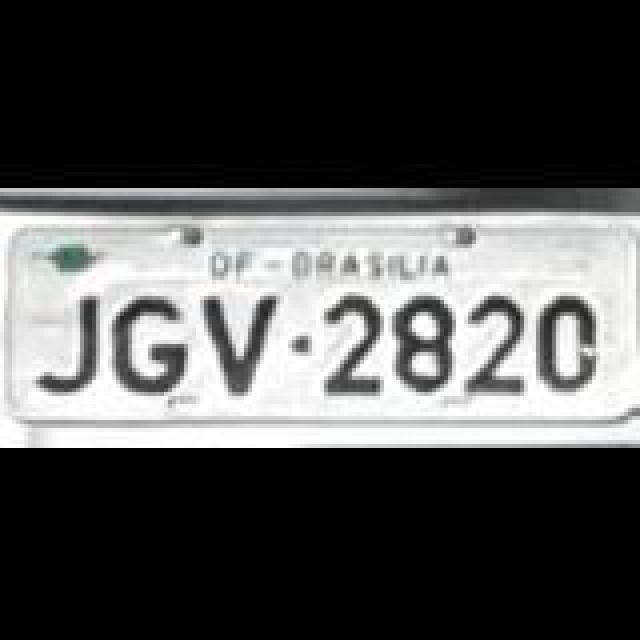2: (312, 290, 384, 398), (462, 294, 530, 394)
8: (392, 286, 456, 402)
G: (108, 294, 188, 394)
J: (26, 286, 102, 402)
O: (532, 288, 596, 400)
V: (200, 290, 272, 398)
